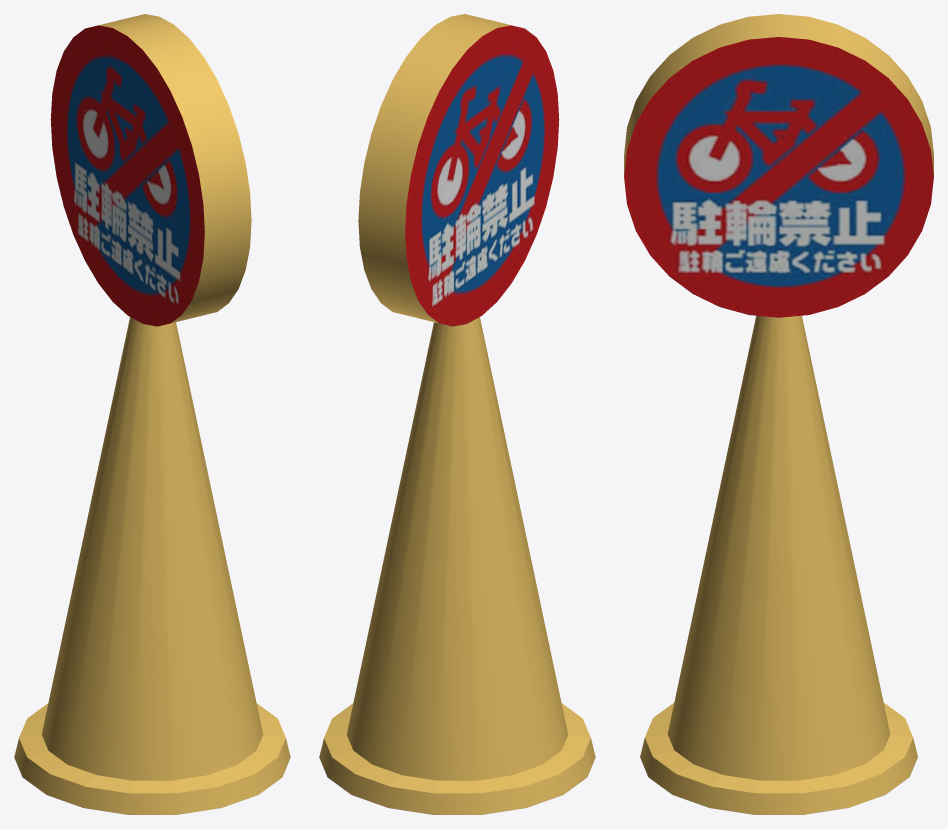
File: Preset_ConeB.fbx
3 views of the same model, side by side, from view 1: azimuth 30°, elevation 25°; view 2: azimuth 150°, elevation 25°; view 3: azimuth 270°, elevation 25° (orthographic).
Visible parts, largest first — view 1: ColorConeB; view 2: ColorConeB; view 3: ColorConeB.
Boxes of the visible parts, x1=… form: ColorConeB: x1=14, y1=14, x2=290, y2=814; ColorConeB: x1=319, y1=14, x2=595, y2=814; ColorConeB: x1=624, y1=14, x2=933, y2=814.
Bounding box in the file's own units: 35.34 × 40 × 104.
1 material, 1 textured.
